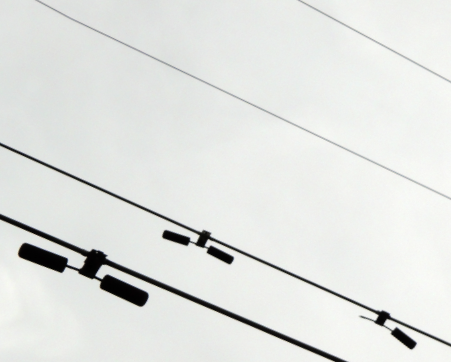damper: (15, 237, 152, 310), (158, 227, 234, 265)
damper_defect: (357, 306, 417, 351)
